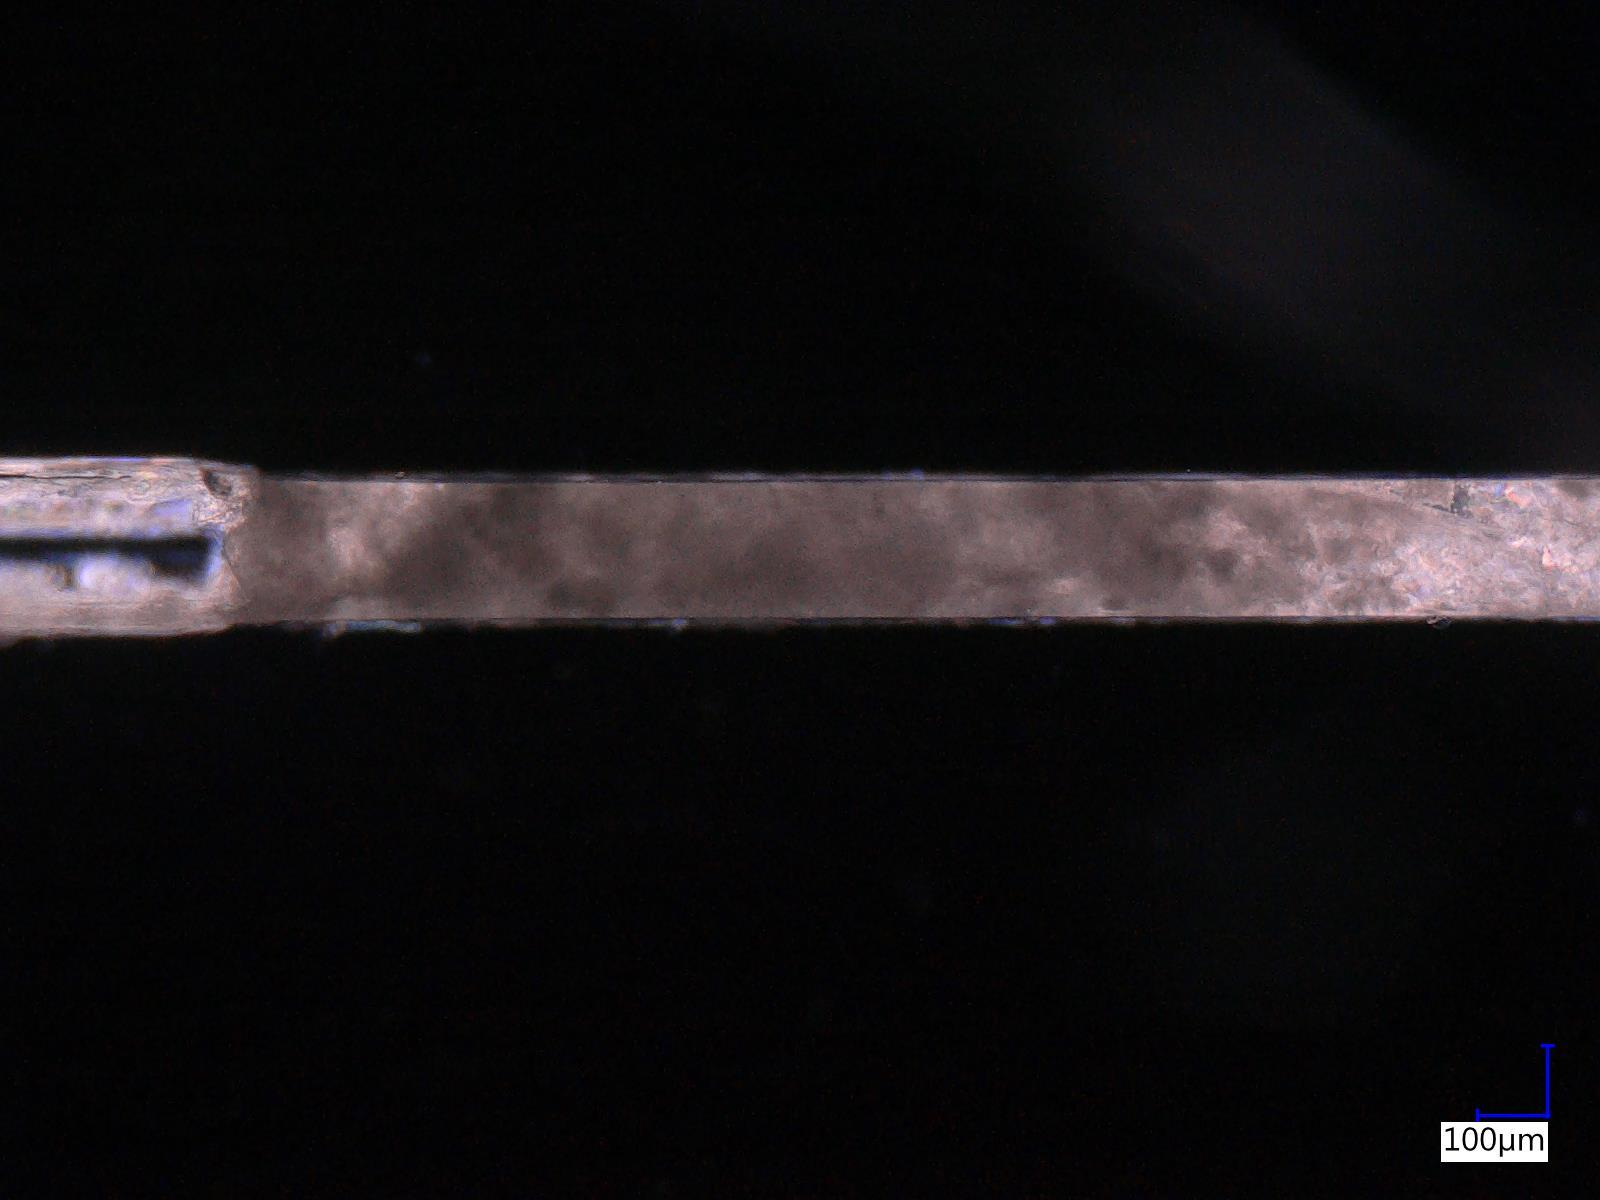sediment: (260, 479, 1410, 613)
